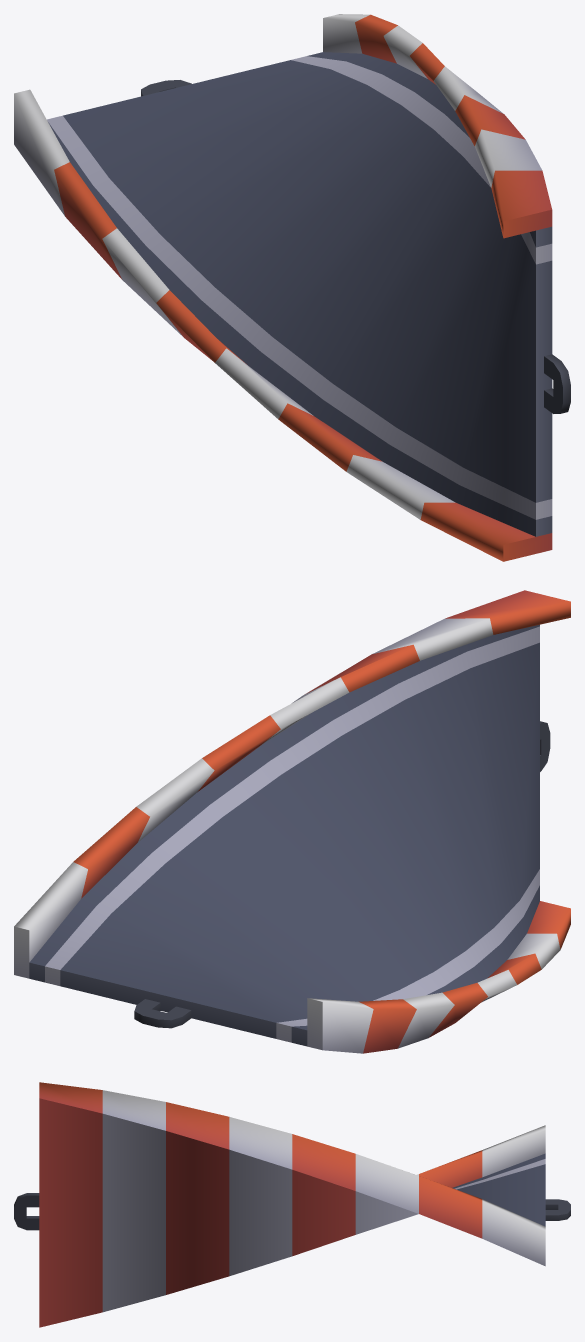
The model's file is track-road-wide-straight-skew-right-side.glb.
The picture shows the model from 3 angles, top to bottom: view 1: azimuth 30°, elevation 25°; view 2: azimuth 150°, elevation 25°; view 3: azimuth 270°, elevation 25°; orthographic projection. The views are drawn at different scales.
Parts seen in each view (by area): view 1: track-road-wide-straight-skew-right-side; view 2: track-road-wide-straight-skew-right-side; view 3: track-road-wide-straight-skew-right-side.
Boxes of the visible parts, bbox=[...] form: track-road-wide-straight-skew-right-side: bbox=[14, 14, 570, 561]; track-road-wide-straight-skew-right-side: bbox=[14, 590, 570, 1053]; track-road-wide-straight-skew-right-side: bbox=[14, 1082, 570, 1327].
Size of the model in its own units: 2.04 by 2.04 by 4.4.
